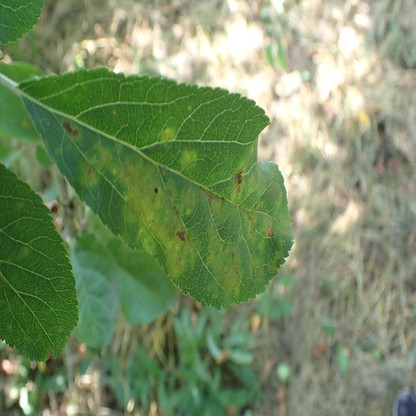frogeye_leaf_spot: (267, 227, 274, 237), (46, 351, 52, 360)
scab: (108, 155, 200, 280), (201, 186, 243, 298), (266, 191, 290, 234), (241, 199, 263, 241), (78, 157, 100, 187), (246, 163, 267, 194), (231, 160, 245, 200), (61, 116, 82, 142), (270, 241, 285, 270), (182, 185, 196, 215), (94, 143, 112, 165), (249, 255, 264, 280), (180, 150, 198, 170), (161, 127, 176, 142), (166, 178, 177, 196), (19, 246, 29, 257), (114, 140, 123, 151)
